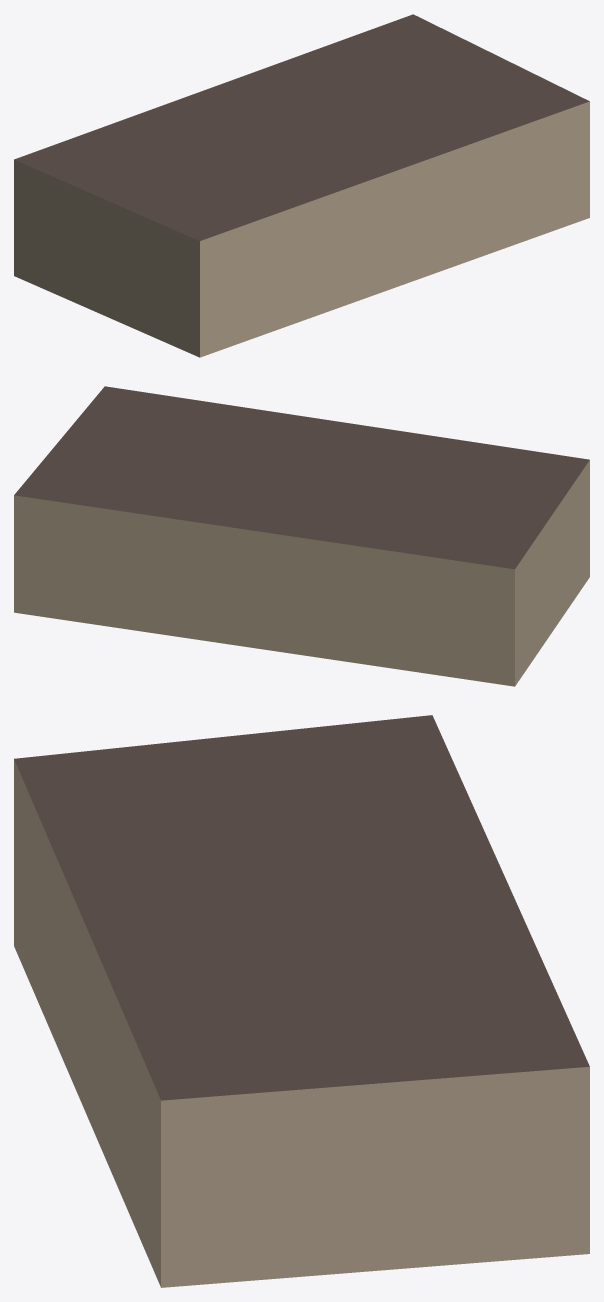
The picture shows the model from 3 angles, top to bottom: view 1: azimuth 30°, elevation 25°; view 2: azimuth 150°, elevation 25°; view 3: azimuth 270°, elevation 25°; orthographic projection. The views are drawn at different scales.
Visible parts, largest first — view 1: HP-w1512911308; view 2: HP-w1512911308; view 3: HP-w1512911308.
Part boxes in pixels (box(x1,y1,x2,y2)): HP-w1512911308: box(14, 14, 589, 357); HP-w1512911308: box(14, 386, 589, 686); HP-w1512911308: box(14, 715, 589, 1287).
Size of the model in its own units: 39.74 by 9 by 25.09.
